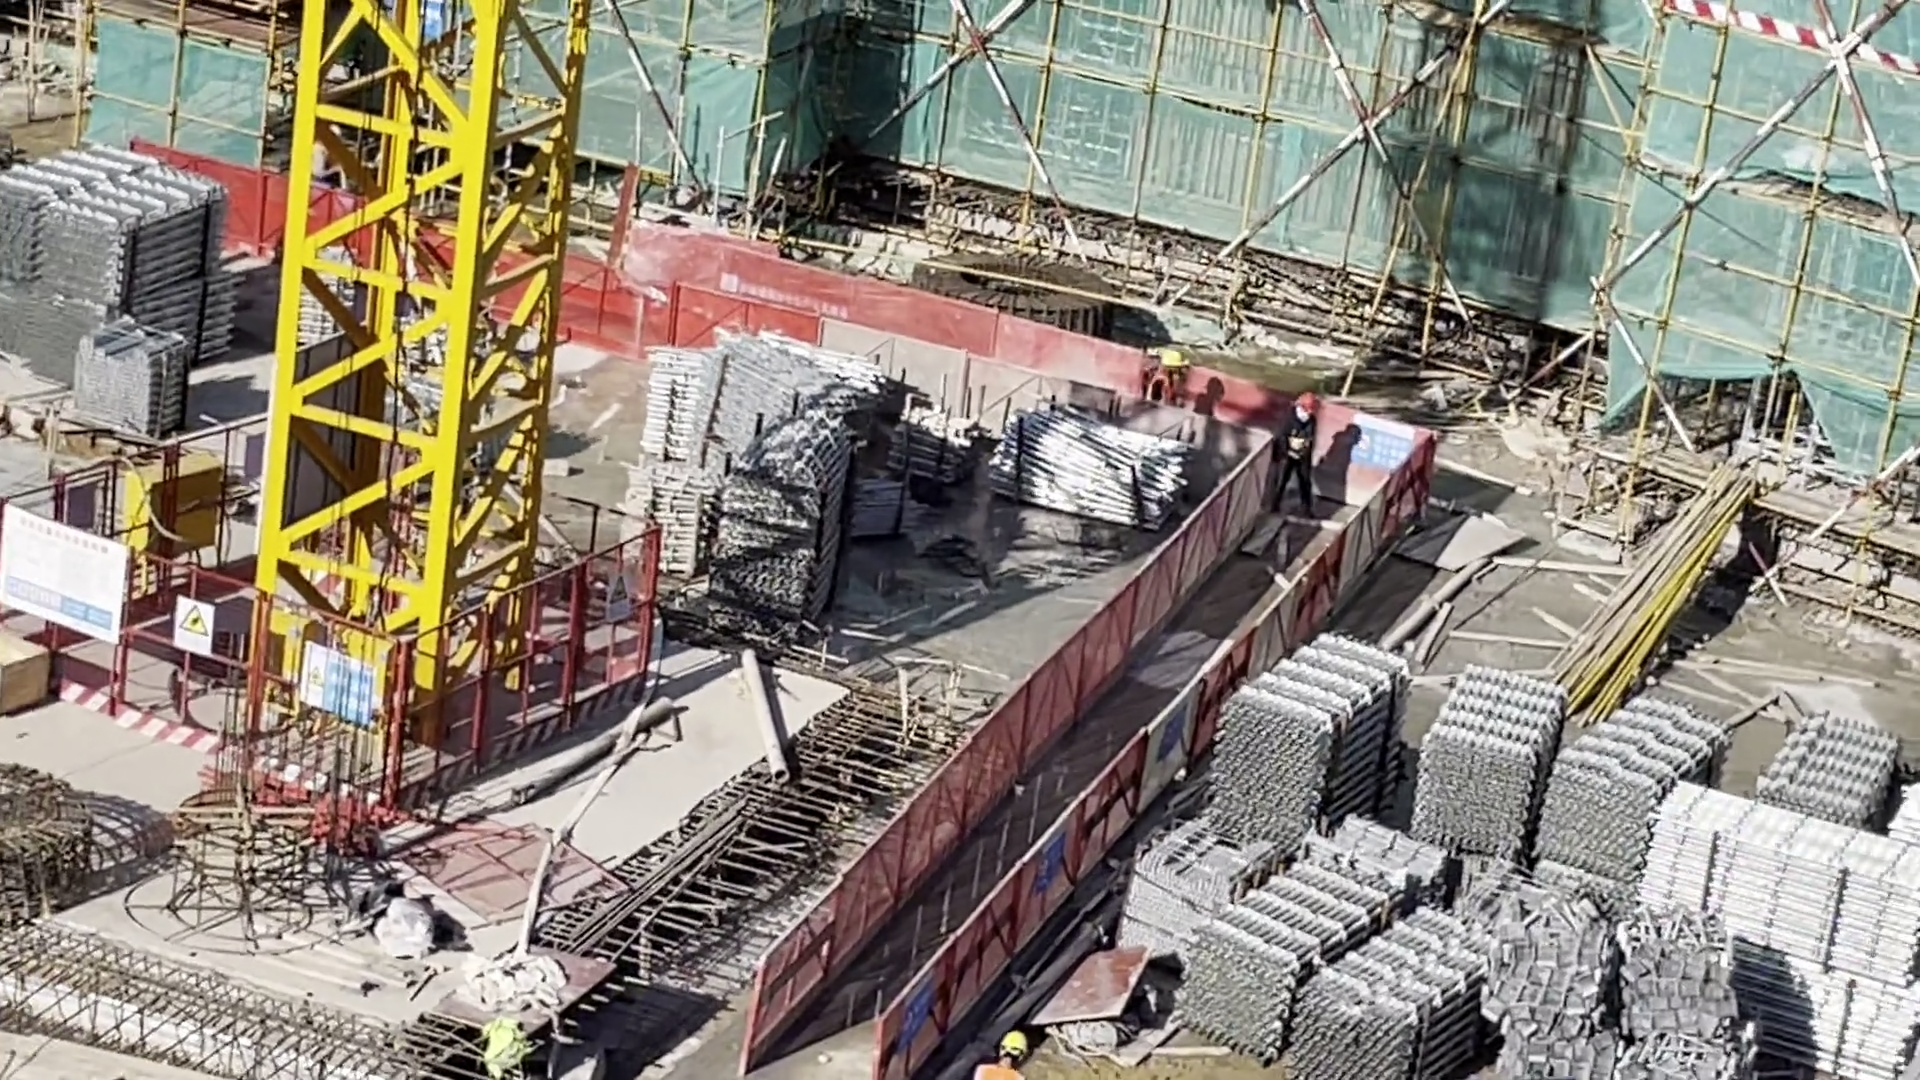ebox: (124, 453, 219, 557)
fence: (752, 446, 1435, 1056), (570, 219, 1133, 415)
helmet: (996, 1031, 1027, 1060), (1161, 352, 1187, 368)
person: (1282, 396, 1317, 522), (969, 1030, 1033, 1080), (1156, 346, 1182, 401)
scaffold: (1652, 789, 1920, 1067), (1216, 634, 1398, 845), (43, 173, 235, 369), (1190, 864, 1383, 1054), (1544, 697, 1727, 879), (1308, 907, 1495, 1080), (654, 343, 878, 460), (4, 147, 139, 341), (1417, 670, 1558, 856), (997, 407, 1194, 531), (727, 424, 841, 620), (1752, 720, 1885, 830), (73, 320, 190, 443), (623, 468, 715, 573), (883, 404, 974, 487)
slogan: (300, 646, 375, 727), (1351, 412, 1416, 472), (904, 974, 935, 1049), (177, 597, 213, 651), (1039, 831, 1067, 891), (606, 573, 632, 622)
vest: (967, 1066, 1023, 1080), (1155, 373, 1173, 408)
